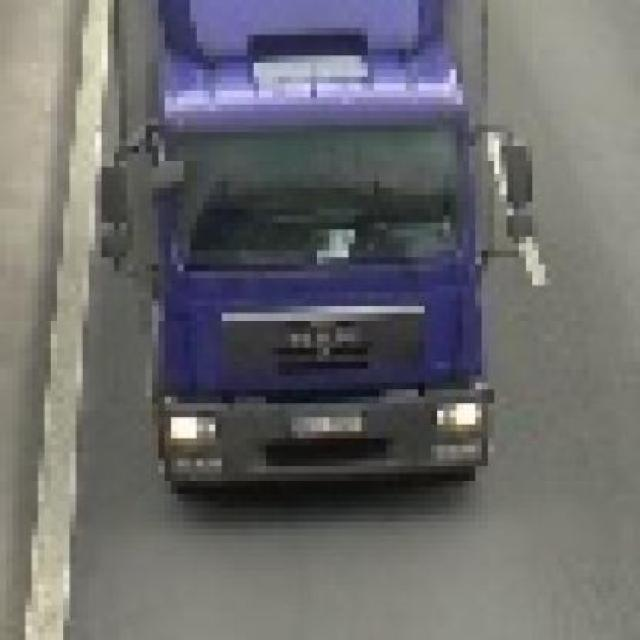truck: (103, 1, 540, 503)
